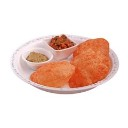poori: (71, 53, 110, 86), (30, 61, 74, 89), (77, 38, 109, 61)
